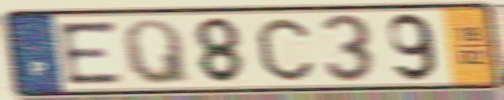3: (317, 12, 378, 84)
8: (192, 15, 248, 86)
9: (386, 11, 442, 84)
C: (253, 16, 317, 84)
E: (54, 18, 128, 88)
Q: (120, 17, 194, 87)
